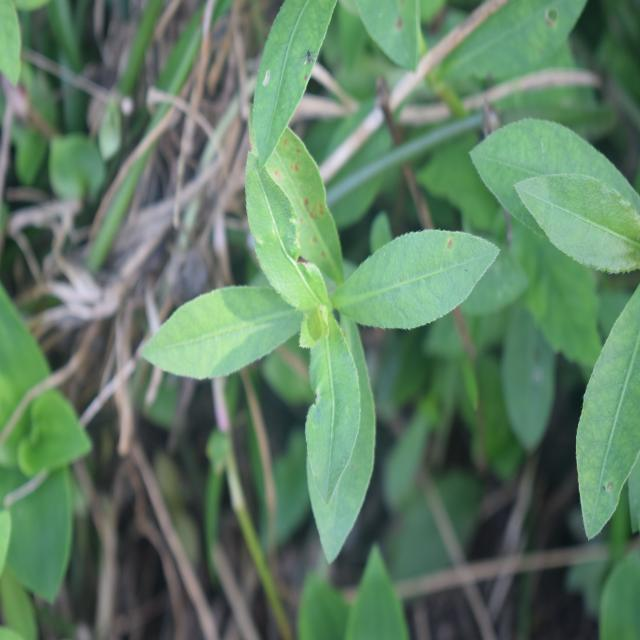Alligatorweed: (163, 136, 491, 546)
